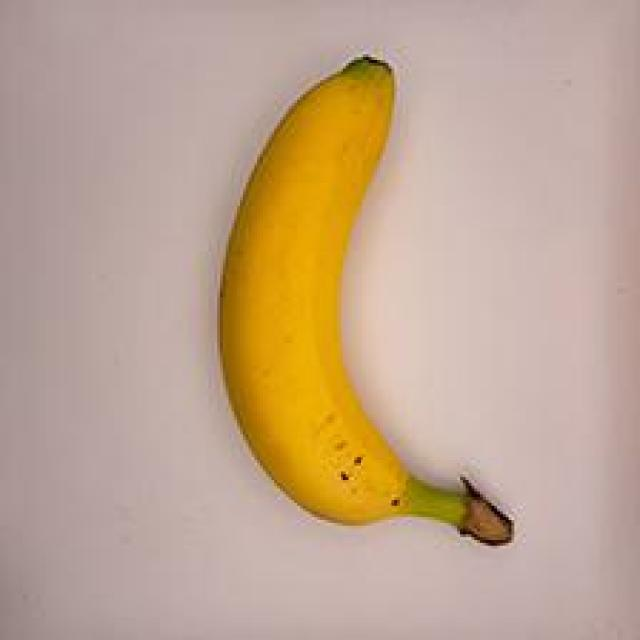Ripe: (149, 34, 541, 564)
